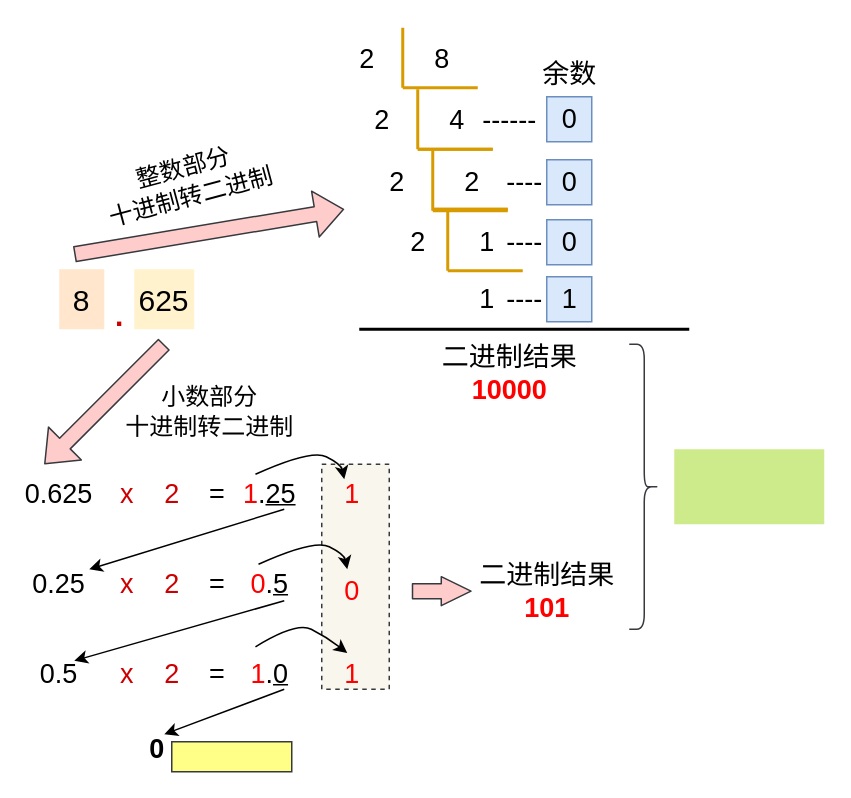
This 851x798 diagram has some shape labels left out. The shapes that lost their labels are listed below. From the top down, each one's centre as x and y in pixels, then its label:
At (749,486): "结果合并 10000.101".
At (231,756): "结束运算".
